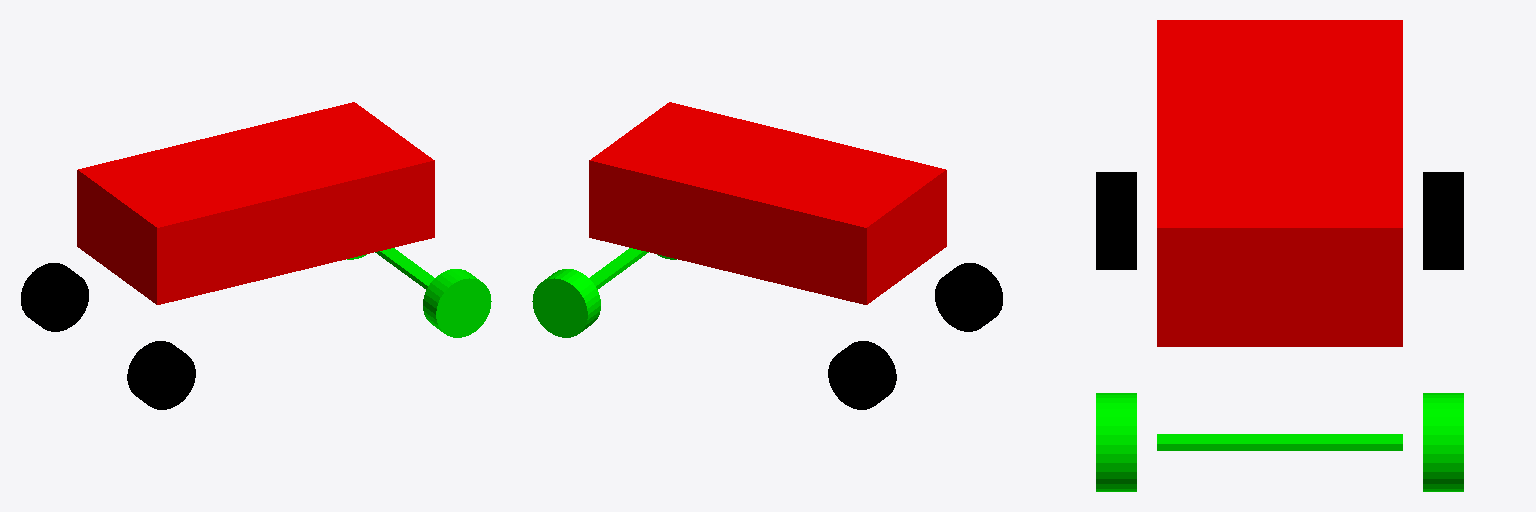
The robot description file, URDF, robot "rc_car_fra":
<?xml version="1.0" ?>
<!-- Homemade by [author] -->
<robot name="rc_car_fra">
  <material name="Red">
    <color rgba="1.0 0 0 1.0"/>
  </material>
  <material name="Green">
    <color rgba="0 1.0 0 1.0"/>
  </material>
  <material name="Black">
    <color rgba="0 0 0 1.0"/>
  </material>
  <!-- Main body -->
  <link name="base_link">
    <inertial>
      <mass value="0.2"/>
      <origin xyz="0 0 0"/>
      <inertia ixx="0.2" ixy="0.0" ixz="0.0" iyy="0.2" iyz="0.0" izz="0.2"/>
    </inertial>
    <visual>
      <origin rpy="0 0 0" xyz="0 0 0"/>
      <geometry>
        <box size="0.3 0.15 0.08"/>
      </geometry>
      <material name="Red"/>
    </visual>
    <collision>
      <origin rpy="0 0 0" xyz="0 0 0"/>
      <geometry>
        <box size="0.3 0.15 0.08"/>
      </geometry>
    </collision>
  </link>
  <!-- Steering joint -->
  <joint name="steering_joint" type="continuous">
    <axis xyz="0 0 1"/>
    <parent link="base_link"/>
    <child link="steering_link"/>
    <origin xyz="0.16 0.0 -0.1"/>
  </joint>
  <link name="steering_link">
    <inertial>
      <mass value="0.01"/>
      <origin xyz="0 0 0"/>
      <inertia ixx="0.01" ixy="0.0" ixz="0.0" iyy="0.01" iyz="0.0" izz="0.01"/>
    </inertial>
    <visual>
      <geometry>
        <box size="0.015 0.15 0.005"/>
      </geometry>
      <material name="Green"/>
    </visual>
    <collision>
      <geometry>
        <box size="0.015 0.15 0.005"/>
      </geometry>
    </collision>
  </link>
  <!-- the front left wheel -->
  <joint name="front_left_wheel_joint" type="continuous">
    <axis xyz="0 1 0"/>
    <parent link="steering_link"/>
    <child link="front_left_wheel_link"/>
    <origin rpy="0 0 0" xyz="0 0.1 0"/>
  </joint>
  <link name="front_left_wheel_link">
    <inertial>
      <mass value="0.01"/>
      <origin xyz="0 0 0"/>
      <inertia ixx="0.01" ixy="0.0" ixz="0.0" iyy="0.01" iyz="0.0" izz="0.01"/>
    </inertial>
    <visual>
      <origin rpy="1.57079632679 0 0" xyz="0 0 0"/>
      <geometry>
        <cylinder length="0.025" radius="0.03"/>
      </geometry>
      <material name="Green"/>
    </visual>
    <collision>
      <origin rpy="1.57079632679 0 0" xyz="0 0 0"/>
      <geometry>
        <cylinder length="0.025" radius="0.03"/>
      </geometry>
    </collision>
  </link>
  <!-- the front right wheel -->
  <joint name="front_right_wheel_joint" type="continuous">
    <axis xyz="0 1 0"/>
    <parent link="steering_link"/>
    <child link="front_right_wheel_link"/>
    <origin rpy="0 0 0" xyz="0 -0.1 0"/>
  </joint>
  <link name="front_right_wheel_link">
    <inertial>
      <mass value="0.01"/>
      <origin xyz="0 0 0"/>
      <inertia ixx="0.01" ixy="0.0" ixz="0.0" iyy="0.01" iyz="0.0" izz="0.01"/>
    </inertial>
    <visual>
      <origin rpy="1.57079632679 0 0" xyz="0 0 0"/>
      <geometry>
        <cylinder length="0.025" radius="0.03"/>
      </geometry>
      <material name="Green"/>
    </visual>
    <collision>
      <origin rpy="1.57079632679 0 0" xyz="0 0 0"/>
      <geometry>
        <cylinder length="0.025" radius="0.03"/>
      </geometry>
    </collision>
  </link>

  <!-- rear left wheel -->
  <joint name="rear_left_wheel_joint" type="continuous">
    <axis xyz="0 1 0"/>
    <parent link="base_link"/>
    <child link="rear_left_wheel_link"/>
    <origin rpy="0 0 0" xyz="-0.16 0.1 -0.1"/>
  </joint>
  <link name="rear_left_wheel_link">
    <inertial>
      <mass value="0.01"/>
      <origin xyz="0 0 0"/>
      <inertia ixx="0.01" ixy="0.0" ixz="0.0" iyy="0.01" iyz="0.0" izz="0.01"/>
    </inertial>
    <visual>
      <origin rpy="1.57079632679 0 0" xyz="0 0 0"/>
      <geometry>
        <cylinder length="0.025" radius="0.03"/>
      </geometry>
      <material name="Black"/>
    </visual>
    <collision>
      <origin rpy="1.57079632679 0 0" xyz="0 0 0"/>
      <geometry>
        <cylinder length="0.025" radius="0.03"/>
      </geometry>
    </collision>
  </link>
  <!-- rear right wheel -->
  <joint name="rear_right_wheel_joint" type="continuous">
    <axis xyz="0 1 0"/>
    <parent link="base_link"/>
    <child link="rear_right_wheel_link"/>
    <origin rpy="0 0 0" xyz="-0.16 -0.1 -0.1"/>
  </joint>
  <link name="rear_right_wheel_link">
    <inertial>
      <mass value="0.01"/>
      <origin xyz="0 0 0"/>
      <inertia ixx="0.01" ixy="0.0" ixz="0.0" iyy="0.01" iyz="0.0" izz="0.01"/>
    </inertial>
    <visual>
      <origin rpy="1.57079632679 0 0" xyz="0 0 0"/>
      <geometry>
        <cylinder length="0.025" radius="0.03"/>
      </geometry>
      <material name="Black"/>
    </visual>
    <collision>
      <origin rpy="1.57079632679 0 0" xyz="0 0 0"/>
      <geometry>
        <cylinder length="0.025" radius="0.03"/>
      </geometry>
    </collision>
  </link>
</robot>

--- Render facts (derived) ---
3 views of the same robot in one strip: view 1: azimuth 30°, elevation 25°; view 2: azimuth 150°, elevation 25°; view 3: azimuth 270°, elevation 25° (orthographic).
Robot: rc_car_fra — 6 links, 5 joints (5 continuous); root link base_link; default pose: every joint at zero.
Links seen in each view (by area): view 1: base_link, rear_left_wheel_link, rear_right_wheel_link, front_right_wheel_link, steering_link; view 2: base_link, rear_left_wheel_link, rear_right_wheel_link, front_left_wheel_link, steering_link; view 3: base_link, steering_link, front_left_wheel_link, front_right_wheel_link, rear_left_wheel_link, rear_right_wheel_link.
Boxes of the visible links, x1,y1,x2,y2 form: base_link: (77, 102, 434, 304); rear_left_wheel_link: (21, 263, 88, 331); rear_right_wheel_link: (127, 341, 195, 409); front_right_wheel_link: (423, 269, 491, 337); steering_link: (375, 248, 434, 289); base_link: (589, 102, 946, 304); rear_left_wheel_link: (828, 341, 896, 409); rear_right_wheel_link: (935, 263, 1002, 331); front_left_wheel_link: (532, 269, 600, 337); steering_link: (589, 248, 648, 289); base_link: (1157, 20, 1402, 346); steering_link: (1157, 434, 1402, 450); front_left_wheel_link: (1423, 393, 1463, 491); front_right_wheel_link: (1096, 393, 1136, 491); rear_left_wheel_link: (1423, 172, 1463, 269); rear_right_wheel_link: (1096, 172, 1136, 269).
Bounding box of the posed robot: 0.38 × 0.225 × 0.17 m (x, y, z).
Geometry: primitives only (box / cylinder / sphere), no mesh files.
